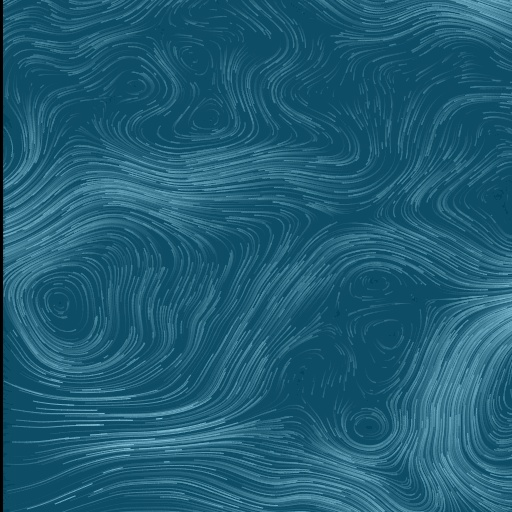eddy: (13, 257, 111, 360), (337, 401, 400, 453), (343, 263, 405, 305), (361, 313, 409, 356), (189, 95, 234, 136), (171, 37, 216, 78), (116, 73, 151, 100)
